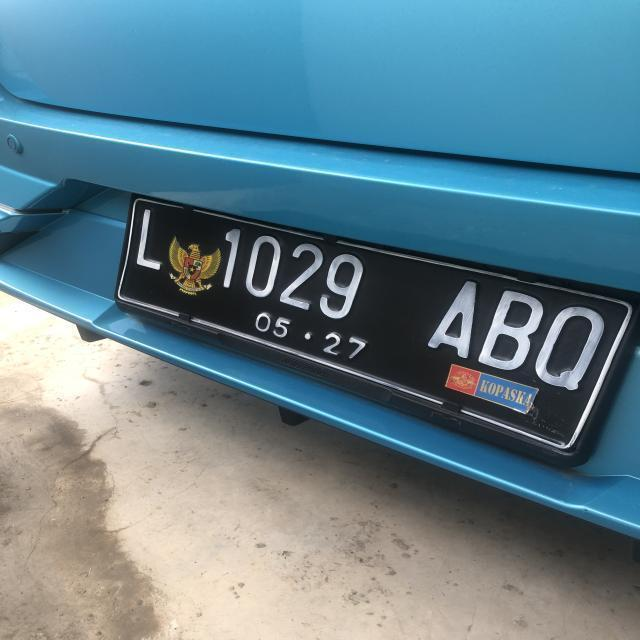0: (245, 229, 282, 301)
1: (216, 226, 252, 288)
2: (282, 243, 322, 310)
9: (321, 248, 364, 319)
A: (429, 274, 476, 362)
B: (482, 288, 544, 372)
L: (132, 205, 166, 278)
Q: (535, 300, 607, 392)
